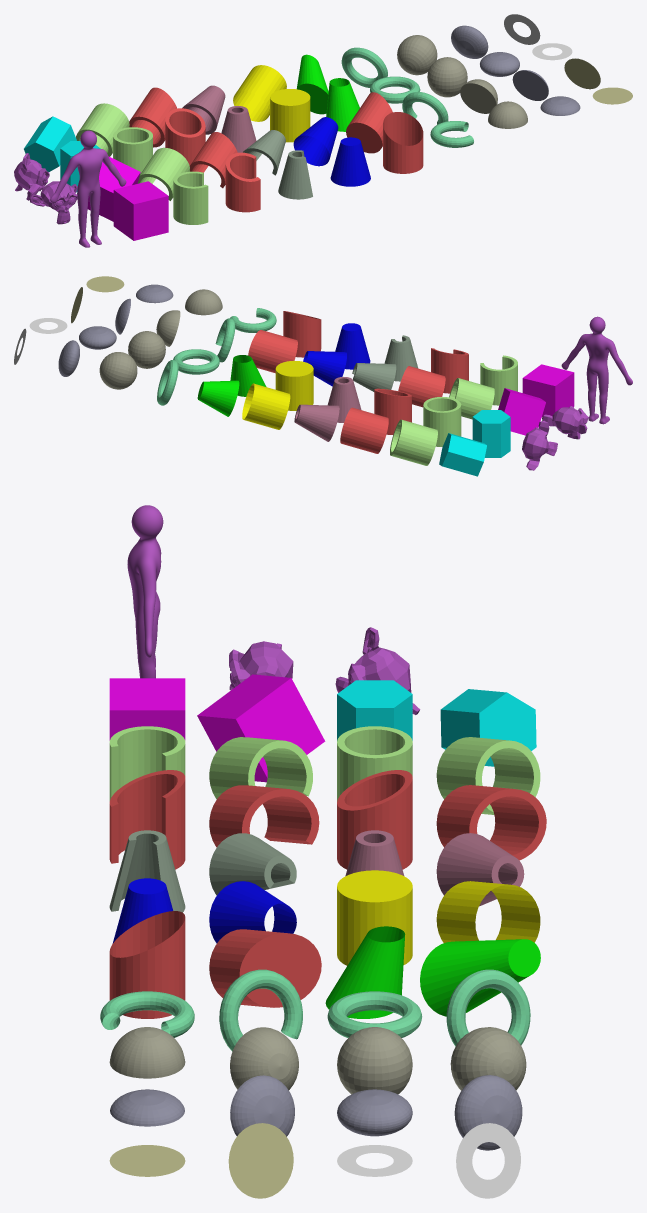
The model's file is AndersTestScene.fbx.
3 views of the same model, one above another, from view 1: azimuth 30°, elevation 25°; view 2: azimuth 150°, elevation 25°; view 3: azimuth 270°, elevation 25° (orthographic). The views are drawn at different scales.
Visible parts, largest first — view 1: Human, Cube_001, Sliced_Cyliner_001.001, Sliced_Cyliner_001, Cylinder_001, Cylinder_002, Extruded_Ring_Segment_001, Sliced_Cyliner_Segment_001, Nut_002, Sliced_Cyliner_002.001, Sliced_Cyliner_Segment_002, Cone_001.001 (+31 smaller); view 2: Human, Cube_001, Cylinder_002, Sliced_Cyliner_Segment_002, Extruded_Ring_002, Nut_001, Cylinder_001, Sliced_Cyliner_002.001, Nut_002, Cube_002, Extruded_Ring_001, Sliced_Cyliner_001.001 (+29 smaller); view 3: Cube_002, Sliced_Cyliner_001.001, Sliced_Cyliner_002.001, Sliced_Cyliner_Segment_002, Eccentric_Cone_002, Sliced_Cyliner_Segment_001, Cylinder_001, Sliced_Cyliner_001, Sliced_Cyliner_002, Extruded_Ring_002, Cylinder_002, Extruded_Ring_Segment_002 (+31 smaller).
Boxes of the visible parts, x1=… form: Human: x1=50, y1=130, x2=126, y2=247; Cube_001: x1=113, y1=181, x2=168, y2=240; Sliced_Cyliner_001.001: x1=383, y1=112, x2=423, y2=173; Sliced_Cyliner_001: x1=225, y1=152, x2=260, y2=212; Cylinder_001: x1=270, y1=89, x2=310, y2=142; Cylinder_002: x1=233, y1=65, x2=286, y2=121; Extruded_Ring_Segment_001: x1=173, y1=171, x2=208, y2=224; Sliced_Cyliner_Segment_001: x1=165, y1=108, x2=205, y2=165; Nut_002: x1=24, y1=116, x2=76, y2=171; Sliced_Cyliner_002.001: x1=346, y1=92, x2=392, y2=153; Sliced_Cyliner_Segment_002: x1=129, y1=87, x2=177, y2=147; Cone_001.001: x1=330, y1=137, x2=370, y2=186; Human: x1=561, y1=316, x2=632, y2=424; Cube_001: x1=522, y1=364, x2=574, y2=417; Cylinder_002: x1=242, y1=383, x2=290, y2=429; Sliced_Cyliner_Segment_002: x1=340, y1=407, x2=388, y2=453; Extruded_Ring_002: x1=390, y1=419, x2=437, y2=465; Nut_001: x1=472, y1=410, x2=510, y2=457; Cylinder_001: x1=275, y1=360, x2=313, y2=410; Sliced_Cyliner_002.001: x1=248, y1=330, x2=297, y2=373; Nut_002: x1=439, y1=433, x2=486, y2=476; Cube_002: x1=498, y1=388, x2=545, y2=435; Extruded_Ring_001: x1=423, y1=397, x2=461, y2=446; Sliced_Cyliner_001.001: x1=283, y1=311, x2=321, y2=357; Cube_002: x1=197, y1=674, x2=325, y2=782; Sliced_Cyliner_001.001: x1=109, y1=911, x2=185, y2=1018; Sliced_Cyliner_002.001: x1=209, y1=929, x2=321, y2=1007; Sliced_Cyliner_Segment_002: x1=436, y1=785, x2=546, y2=860; Eccentric_Cone_002: x1=420, y1=939, x2=540, y2=1016; Sliced_Cyliner_Segment_001: x1=337, y1=770, x2=412, y2=869; Cylinder_001: x1=337, y1=870, x2=412, y2=965; Sliced_Cyliner_001: x1=109, y1=770, x2=185, y2=869; Sliced_Cyliner_002: x1=209, y1=785, x2=319, y2=847; Extruded_Ring_002: x1=436, y1=737, x2=540, y2=814; Cylinder_002: x1=436, y1=881, x2=540, y2=942; Extruded_Ring_Segment_002: x1=209, y1=737, x2=312, y2=806.
Bounding box in the file's own units: 1472 × 4146 × 823.
